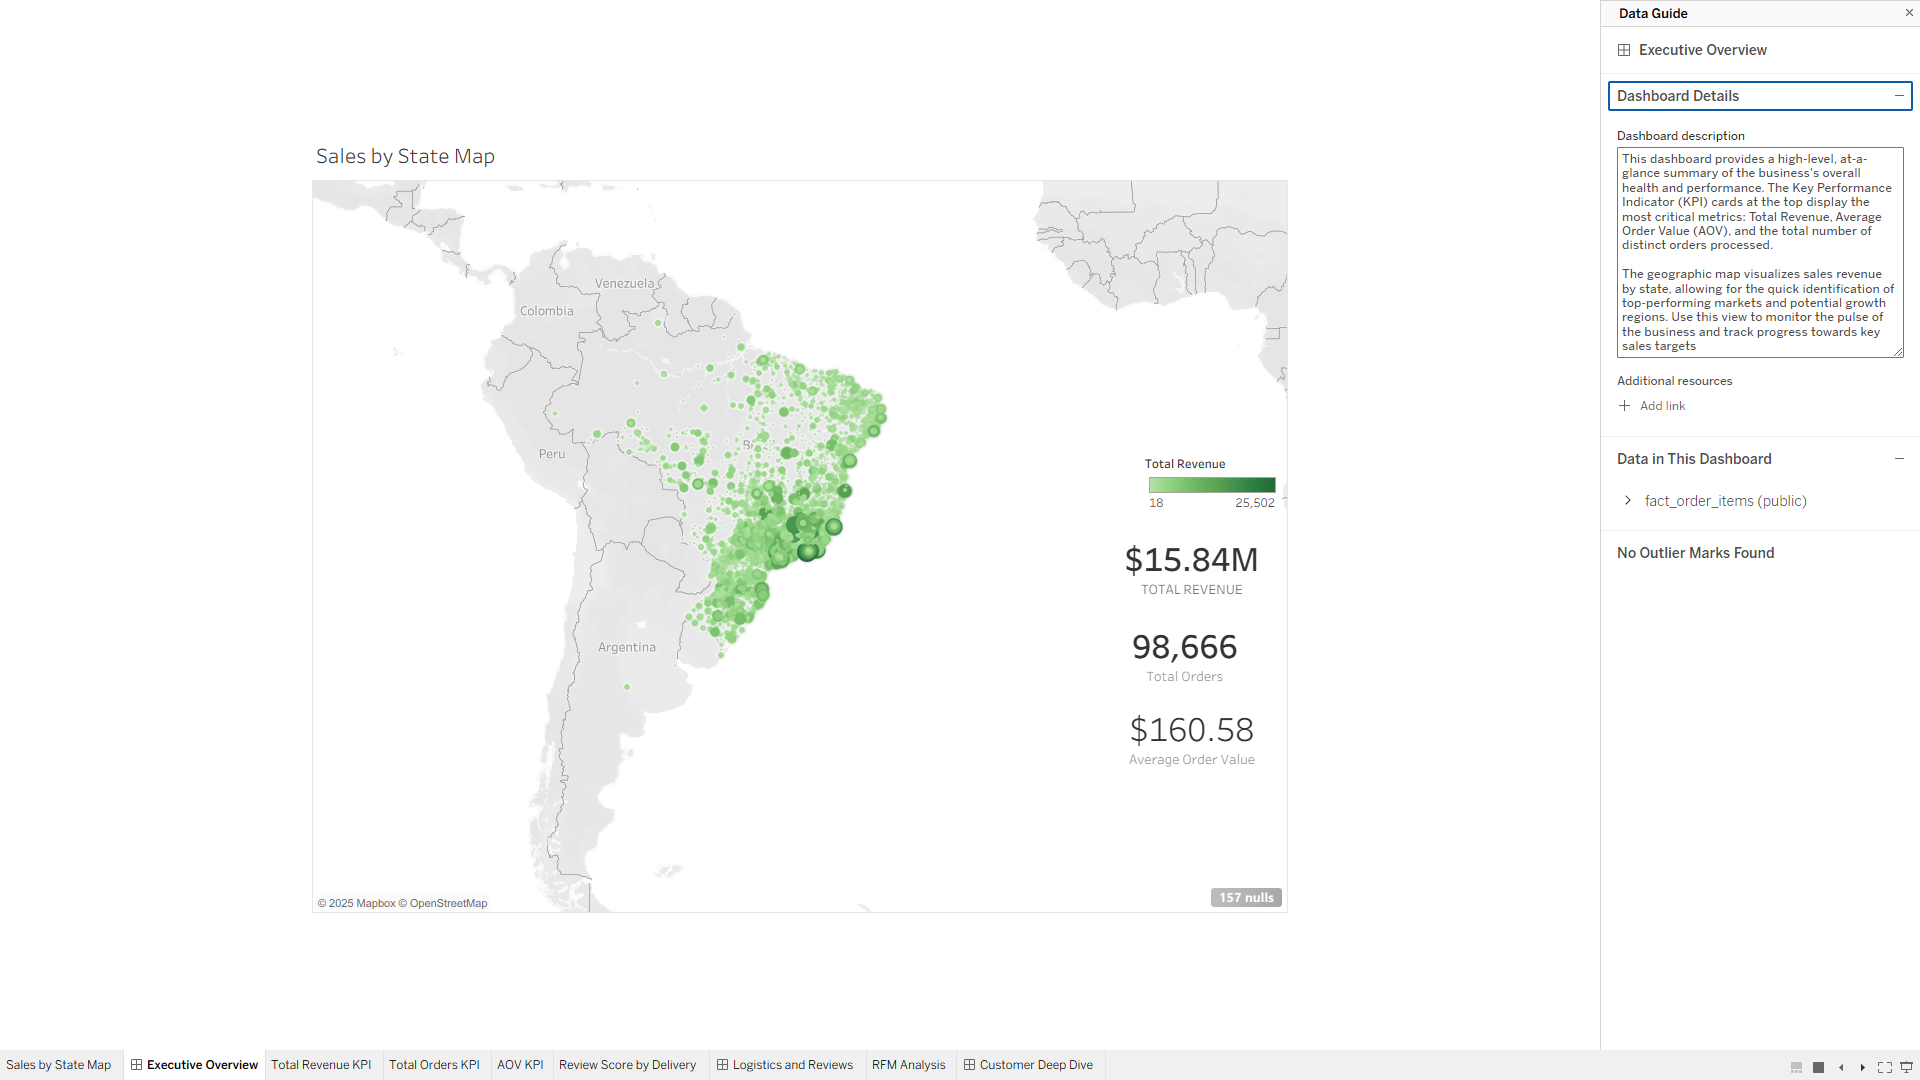

What the dashboard file says about the page in this screenshot:
{"tool":"tableau","page":{"name":"Executive Overview","canvas":[1000,800],"ordinal":1},"visuals":[{"type":"worksheet","title":"Sales by State Map","mark":"Automatic","rows":["geolocation_lat"],"cols":["geolocation_lng"],"box":[8,8,984,784]},{"type":"legend","title":"Sales by State Map","param":"[federated.0tshyay0ly4ssc10o5m4x1mkff0y].[usr:Calculation_1584704161406812161:qk","box":[841,326,143,65]},{"type":"worksheet","title":"Total Revenue KPI","mark":"Automatic","box":[812,397,167,86]},{"type":"worksheet","title":"Total Orders KPI","mark":"Automatic","box":[825,484,136,89]},{"type":"worksheet","title":"AOV KPI","mark":"Automatic","box":[820,566,144,84]}]}

Visuals, with their boxes on the page's 1000x800 design canvas (x1, y1, x2, y2). These are canvas units, not pixel positions in the 1920x1080 screenshot, which may show the page scaled, cropped or inside an application window:
"Sales by State Map" worksheet: left=8, top=8, right=992, bottom=792
"Sales by State Map" legend: left=841, top=326, right=984, bottom=391
"Total Revenue KPI" worksheet: left=812, top=397, right=979, bottom=483
"Total Orders KPI" worksheet: left=825, top=484, right=961, bottom=573
"AOV KPI" worksheet: left=820, top=566, right=964, bottom=650
